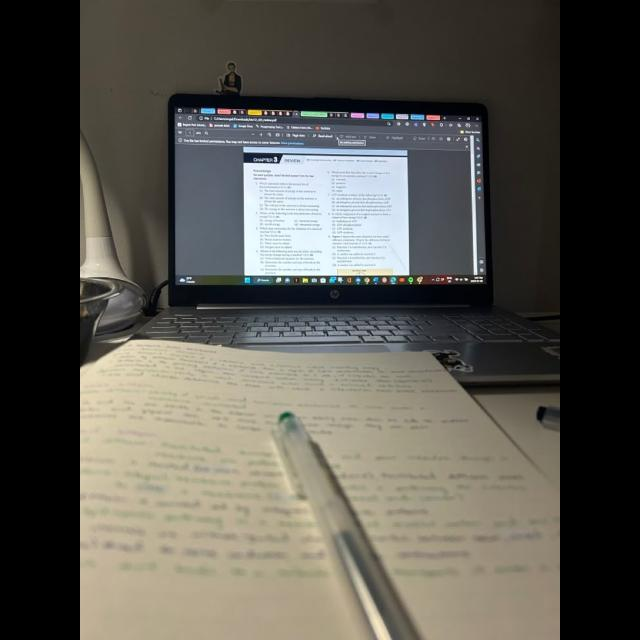laptop: (142, 94, 557, 377)
